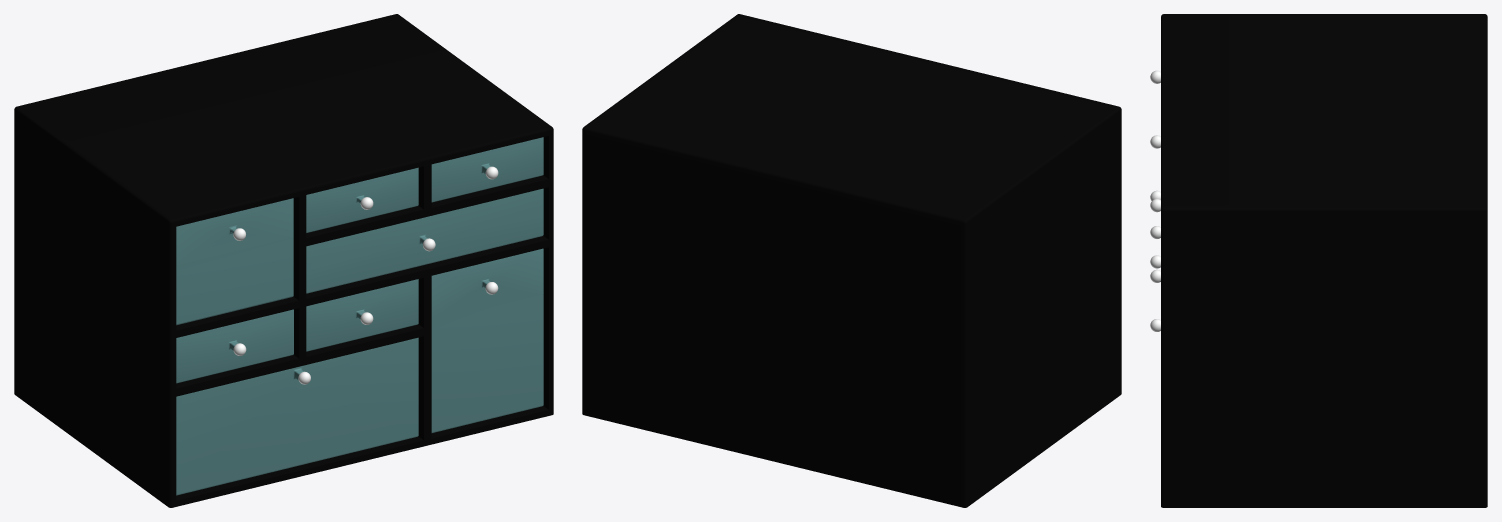
Rendered from Cajonera_Mediana.fbx.
3 renders of one model, left to right at view 1: azimuth 30°, elevation 25°; view 2: azimuth 150°, elevation 25°; view 3: azimuth 270°, elevation 25°, orthographic. The views are drawn at different scales.
Parts seen in each view (by area): view 1: COMODA002, CAJON024, CAJON023, CAJON017, CAJON020, CAJON021, CAJON022, CAJON019, CAJON018; view 2: COMODA002; view 3: COMODA002.
Part boxes in pixels (x1=…): COMODA002: x1=14, y1=14, x2=553, y2=507; CAJON024: x1=176, y1=337, x2=418, y2=495; CAJON023: x1=431, y1=248, x2=543, y2=432; CAJON017: x1=176, y1=198, x2=293, y2=325; CAJON020: x1=306, y1=188, x2=543, y2=293; CAJON021: x1=176, y1=309, x2=293, y2=383; CAJON022: x1=306, y1=279, x2=418, y2=351; CAJON019: x1=431, y1=137, x2=543, y2=202; CAJON018: x1=306, y1=167, x2=418, y2=232; COMODA002: x1=582, y1=14, x2=1121, y2=507; COMODA002: x1=1161, y1=14, x2=1487, y2=507.
Bounding box in the file's own units: 26.01 × 18.57 × 18.96.
